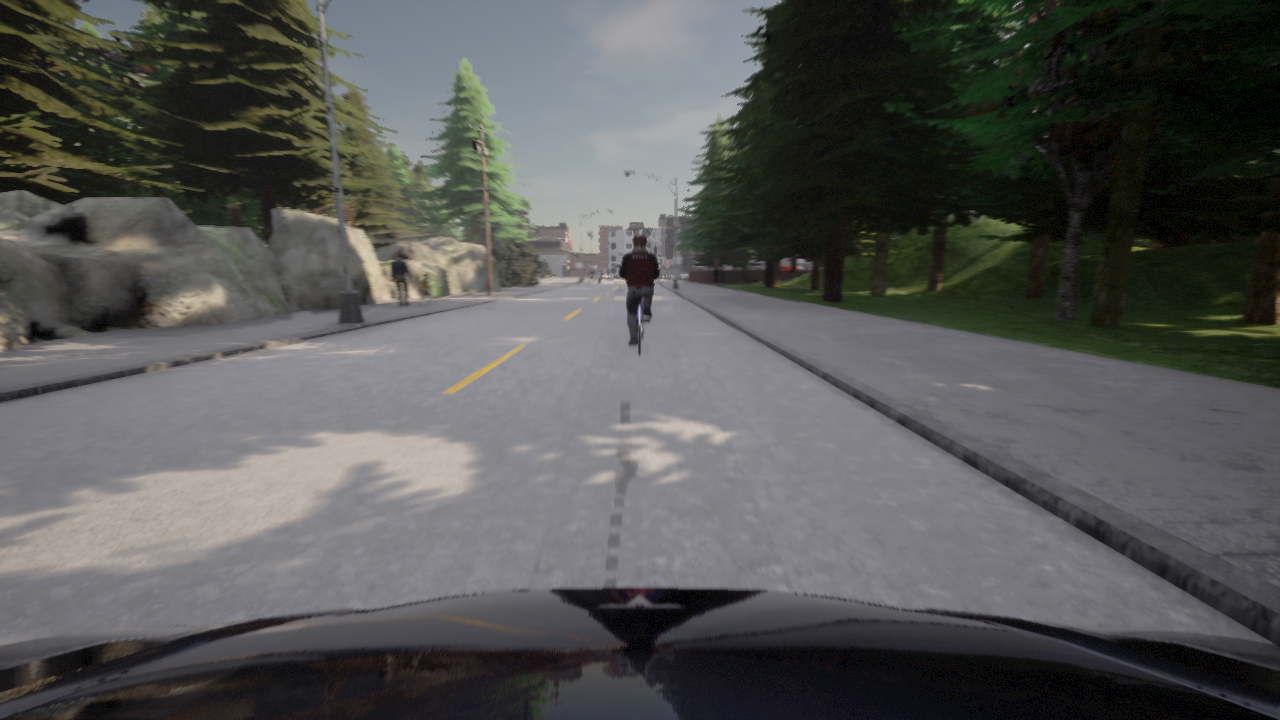cyclist: (0, 588, 1279, 719), (630, 299, 650, 354), (598, 274, 601, 283), (668, 272, 680, 274), (679, 272, 687, 274), (591, 274, 592, 287)
pedestrian: (391, 252, 412, 305), (419, 274, 431, 306)
